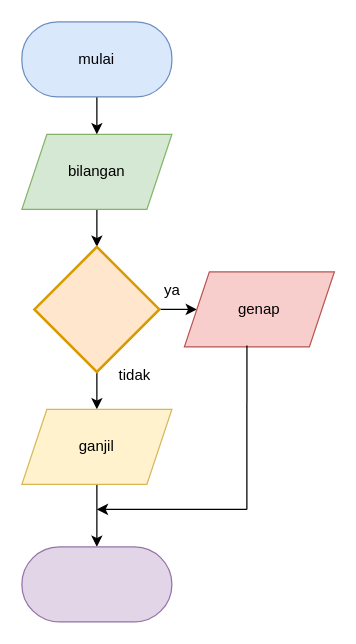
Image size: 356x644. Some labels were removed from this diagram. Each missing label, with the box of its shape:
selesai: (21, 546, 172, 622)
sisa=0: (32, 245, 160, 372)
